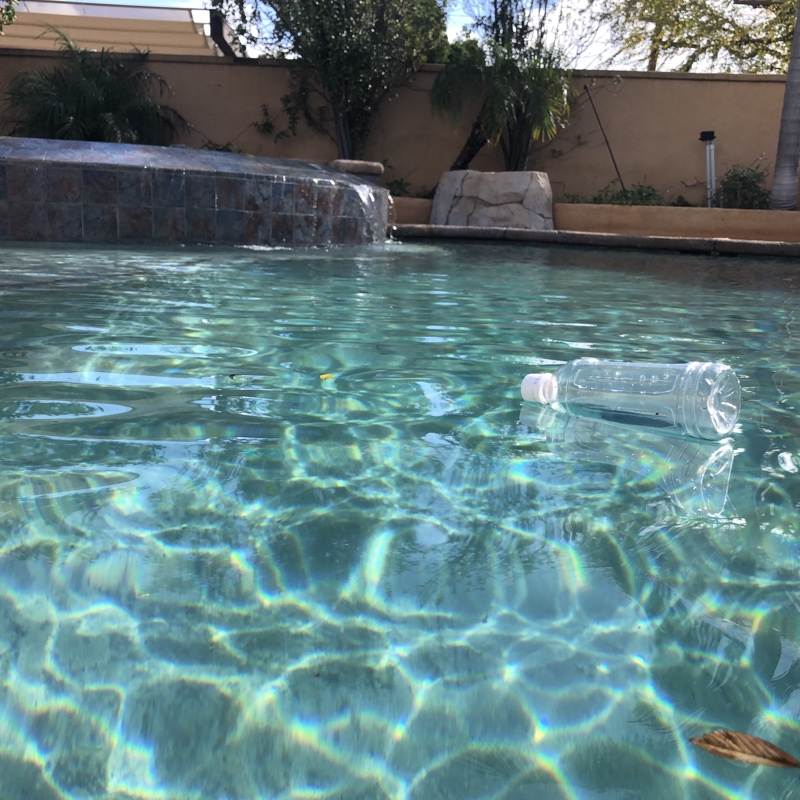Plastic Bottle: (519, 354, 747, 447)
